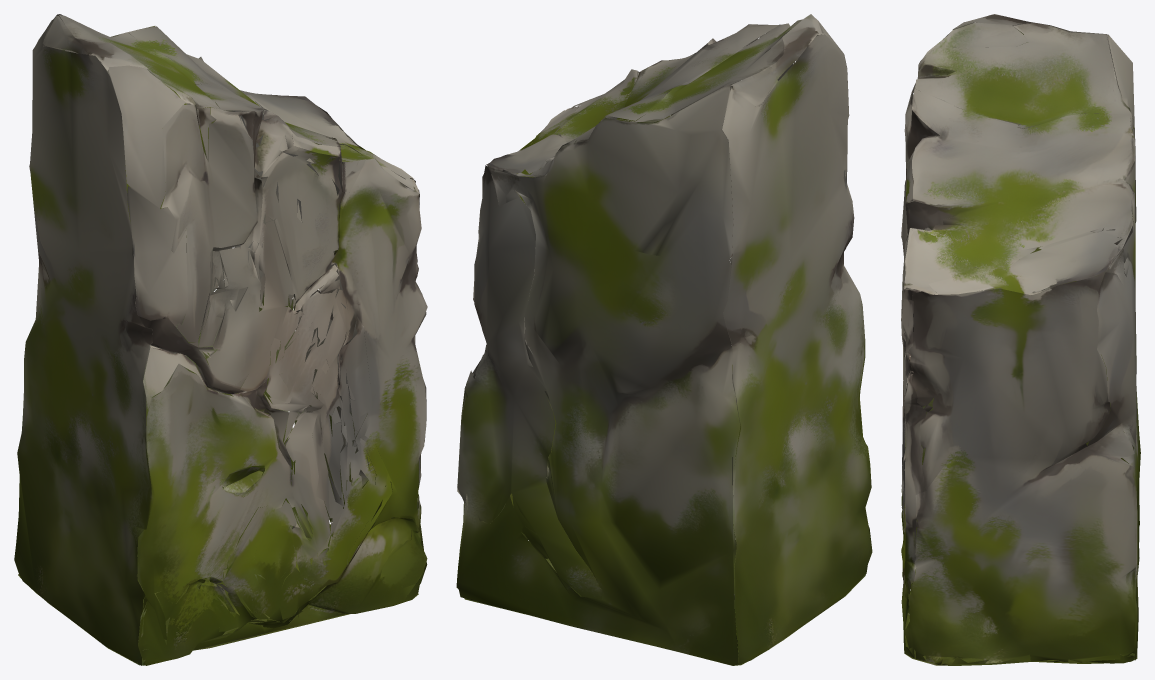
File: stone_block_hy.glb
3 renders of one model, left to right at view 1: azimuth 30°, elevation 25°; view 2: azimuth 150°, elevation 25°; view 3: azimuth 270°, elevation 25°, orthographic. The views are drawn at different scales.
Visible parts, largest first — view 1: stone_block_hy; view 2: stone_block_hy; view 3: stone_block_hy.
Boxes of the visible parts, box(x1,y1,x2,y2) form: stone_block_hy: box(14, 14, 427, 665); stone_block_hy: box(456, 14, 872, 665); stone_block_hy: box(901, 14, 1140, 665).
Size of the model in its own units: 1.62 by 3 by 1.24.
Materials: 1 (1 with a texture image).
